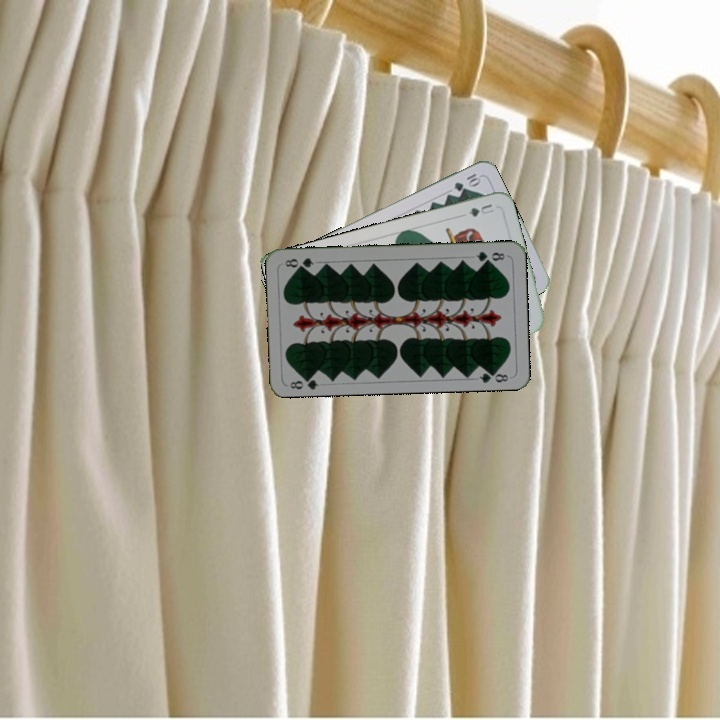G10: (450, 169, 483, 194)
G8: (286, 372, 321, 392), (472, 247, 507, 265)
GU: (464, 200, 496, 220)
